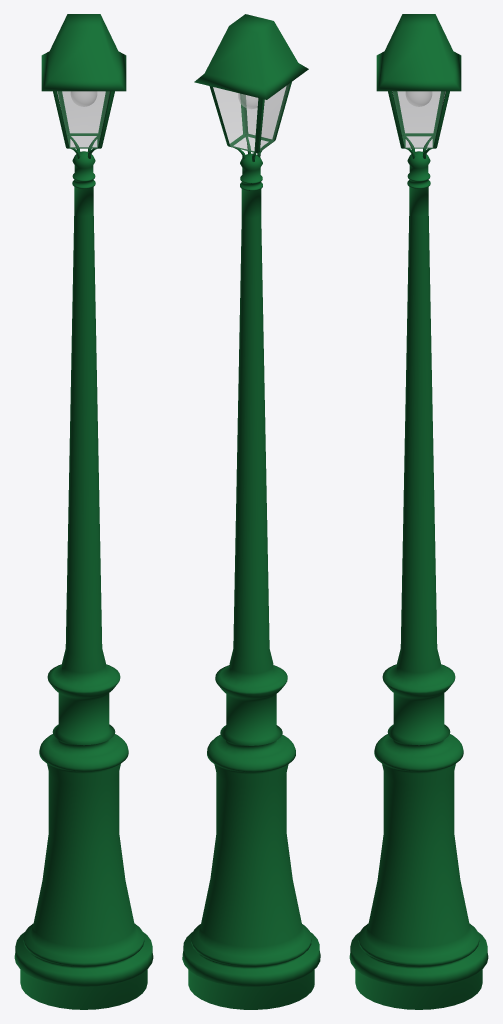
The model's file is lamppost_0f51b550.glb.
3 views of the same model, side by side, from view 1: azimuth 90°, elevation 25°; view 2: azimuth 150°, elevation 25°; view 3: azimuth 270°, elevation 25° (orthographic).
Visible parts, largest first — view 1: Sphere_1; view 2: Sphere_1; view 3: Sphere_1.
Part boxes in pixels (x1=…): Sphere_1: x1=14, y1=14, x2=153, y2=1009; Sphere_1: x1=182, y1=14, x2=320, y2=1009; Sphere_1: x1=349, y1=14, x2=488, y2=1009.
Bounding box in the file's own units: 1.29 × 9.84 × 1.29.
